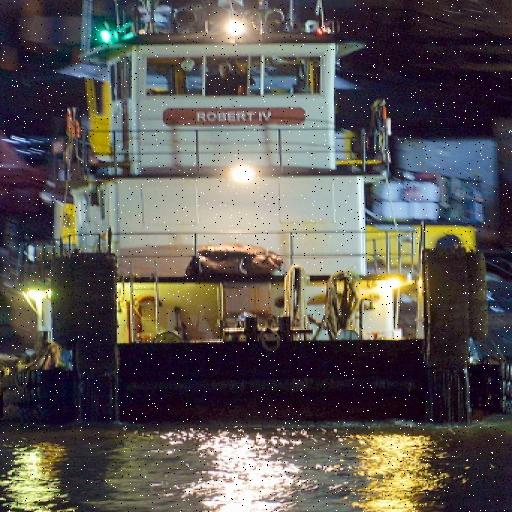tugboat: (1, 1, 512, 437)
